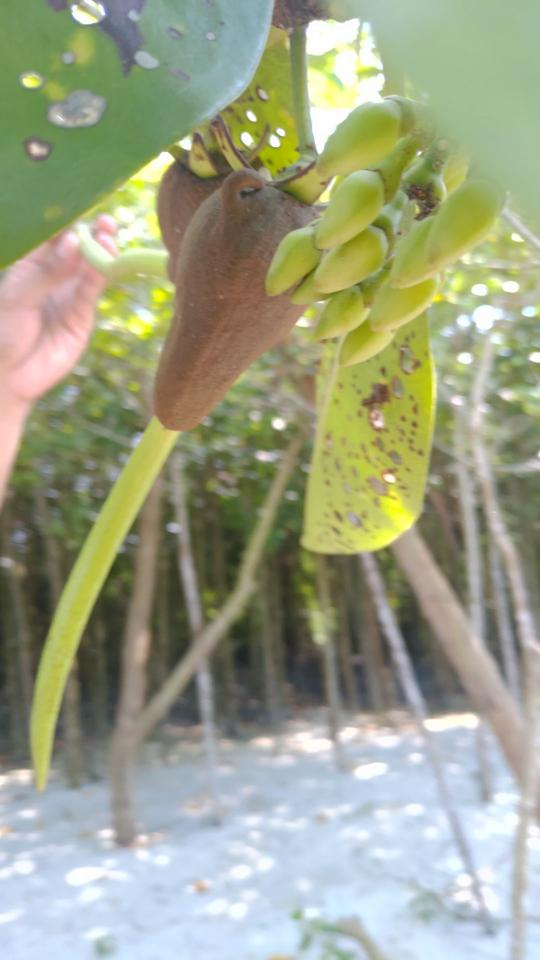mentah: (11, 97, 382, 801)
